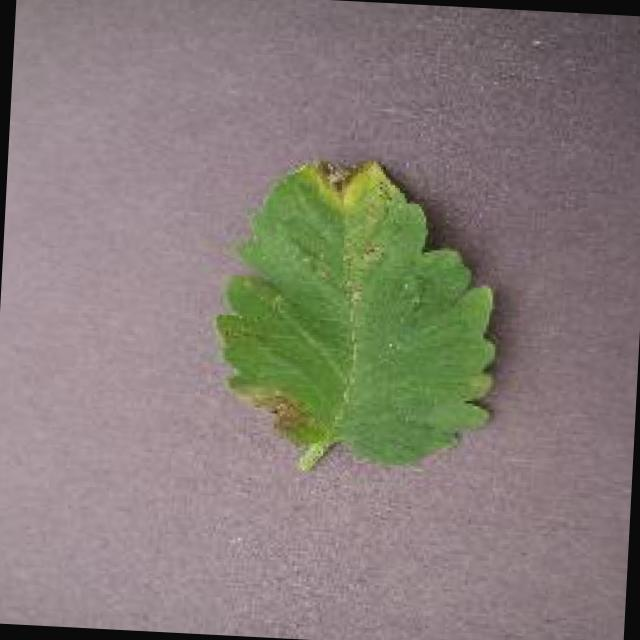leaf blight: (214, 168, 497, 471)
